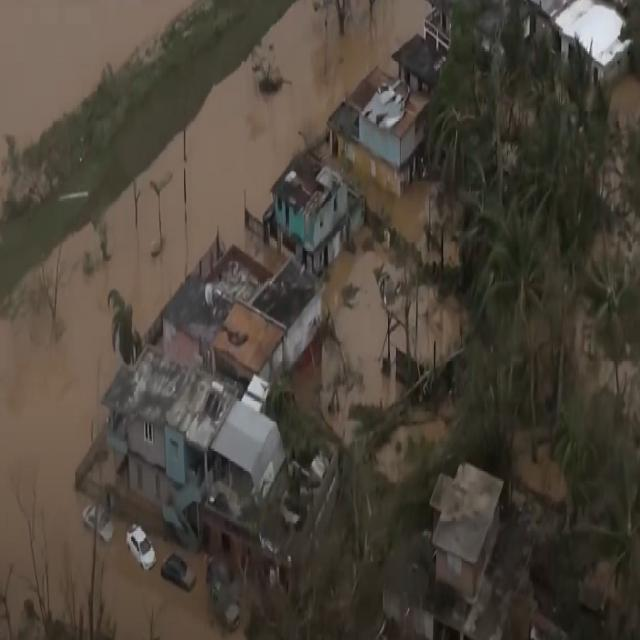flood: (0, 0, 432, 640), (0, 0, 193, 148), (325, 226, 460, 437), (316, 141, 460, 265), (517, 449, 569, 495), (611, 71, 640, 128)
house: (104, 347, 277, 516), (188, 252, 327, 382), (427, 462, 511, 602), (264, 155, 368, 261), (338, 70, 428, 185)
